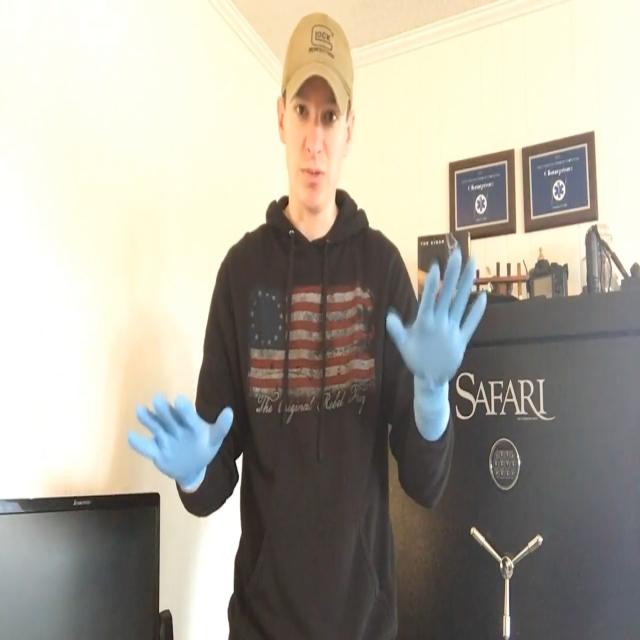Gloves: (384, 240, 492, 434), (129, 382, 235, 498)
